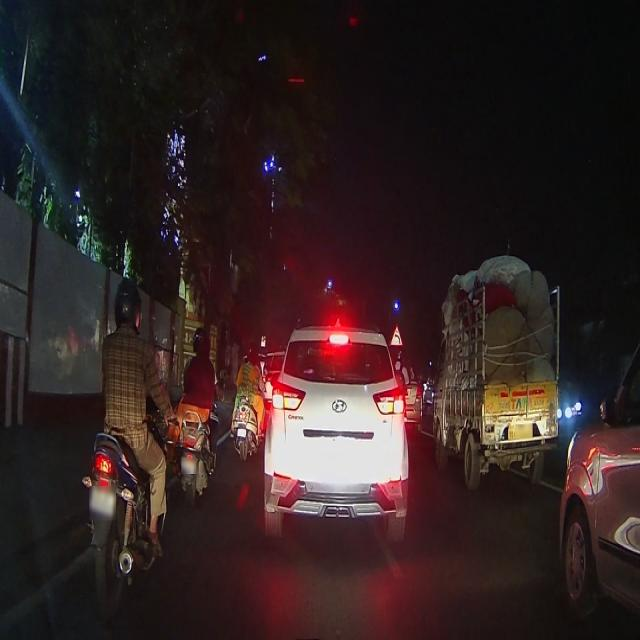left-hand-curve: (391, 324, 402, 345)
